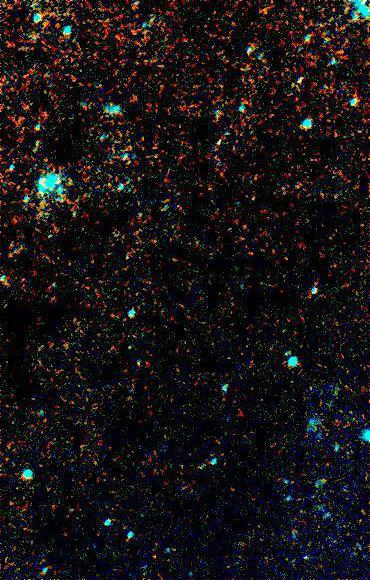star: (0, 233, 22, 263)
